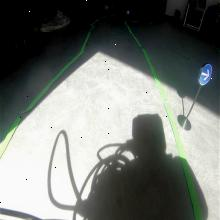right: (198, 62, 212, 86)
